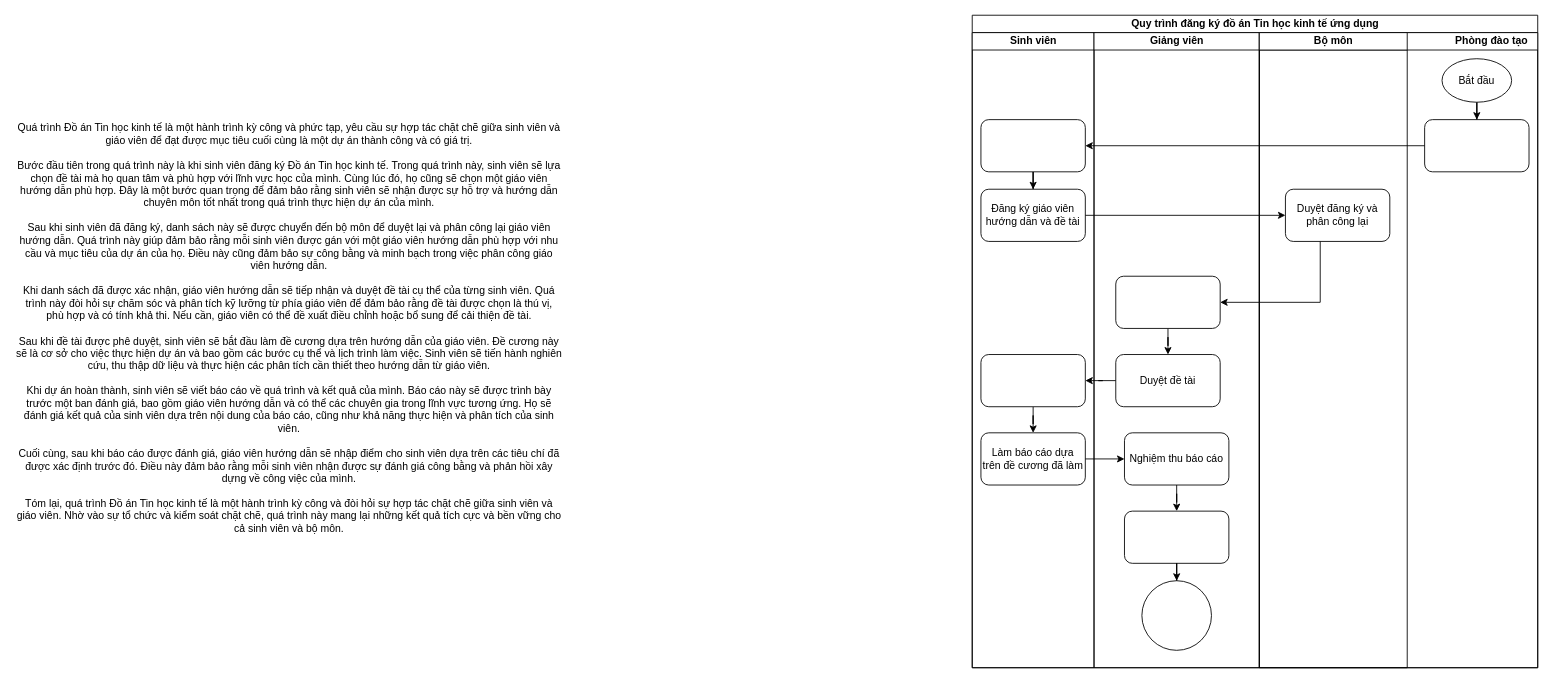
This 1553x683 diagram has some shape labels left out. The centre of each missing label's shape, as x and y in pixels:
"Kết thúc" belongs at point 1176,615.
"Làm đề cương theo hướng dẫn" belongs at point 1032,380.
"Mở đợt đăng ký" belongs at point 1476,145.
"Tiếp nhận danh sách sinh viên" belongs at point 1167,301.
"Đánh giá và nhập điểm" belongs at point 1176,536.
"Đăng ký đồ án Tin học kinh tế ứng dụng" belongs at point 1032,145.
